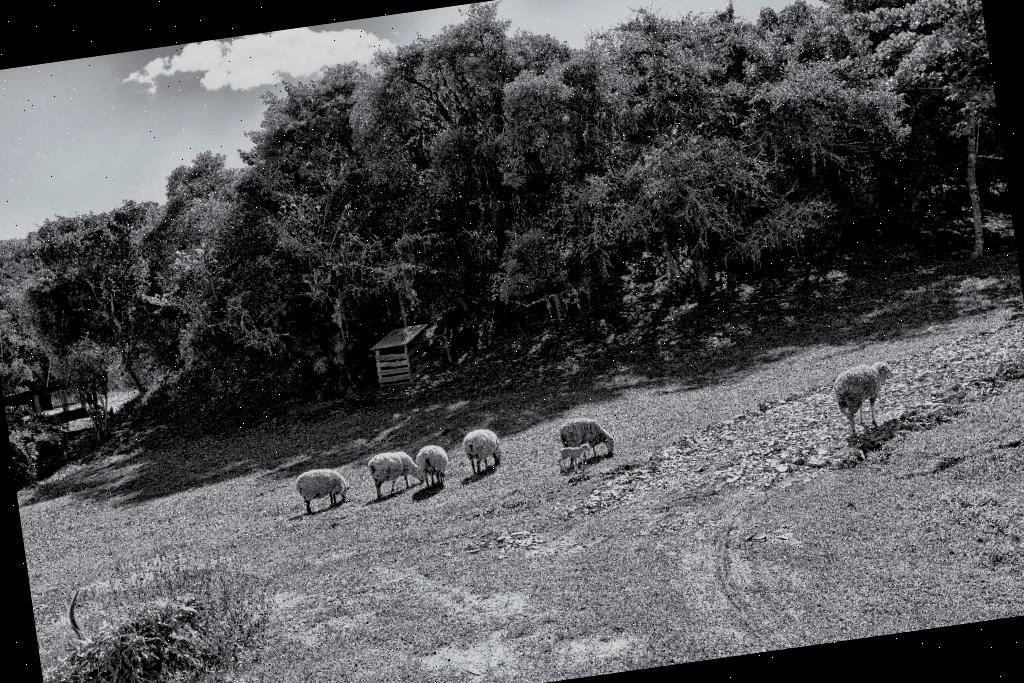Sheep: (824, 356, 903, 439), (278, 459, 358, 522), (354, 442, 426, 501), (549, 409, 616, 462), (454, 423, 510, 479), (410, 435, 456, 490)
